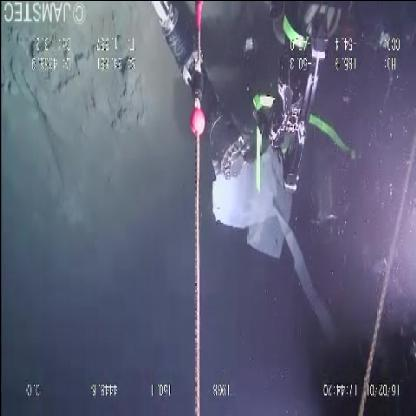Rov: (146, 2, 360, 198)
Rác: (209, 145, 301, 266)
